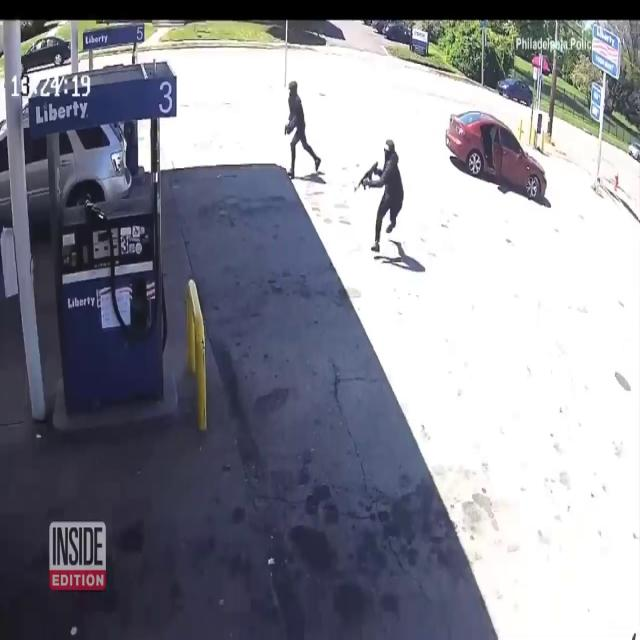penembakan: (353, 136, 407, 256), (280, 76, 322, 188)
